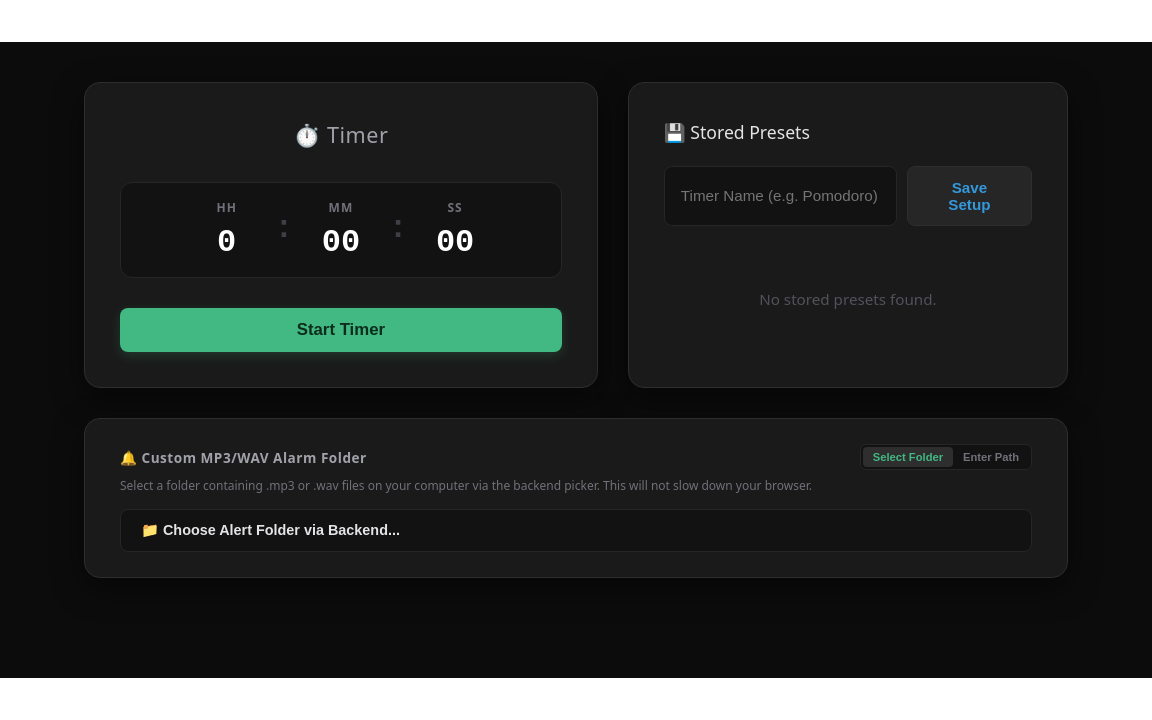
Test: Countdown Timer & Preset Suite › shows an error notification banner if trying to save an empty setup name
What coordinates should you click on to do the following:
click the button with class "btn-save"
I would click on:
 (969, 196)
Its box is [907,166,1032,226].
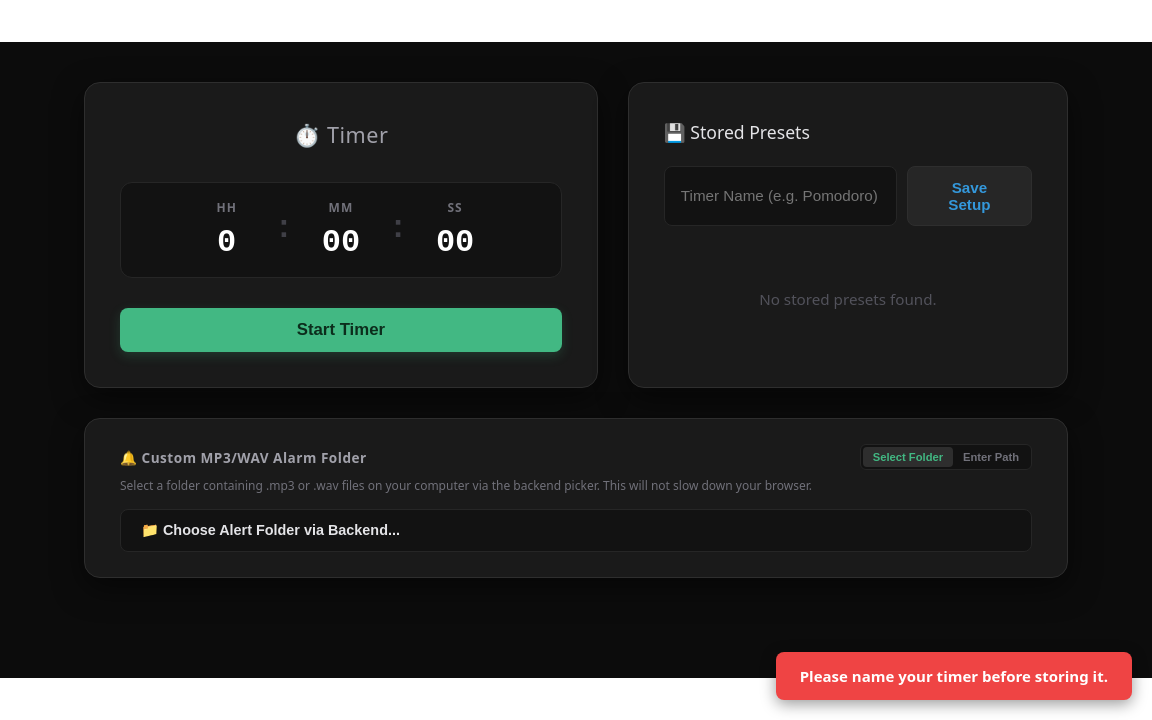
expect the text "Please name your timer before storing it." is shown: met, box [776,652,1132,700]
expect the text with class "custom-notification" shows "Please name your timer": met, box [800,666,1108,686]
